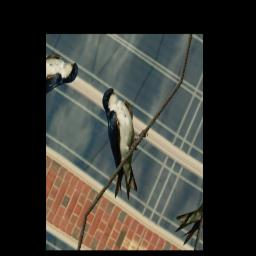Swallow: (71, 83, 167, 209)
